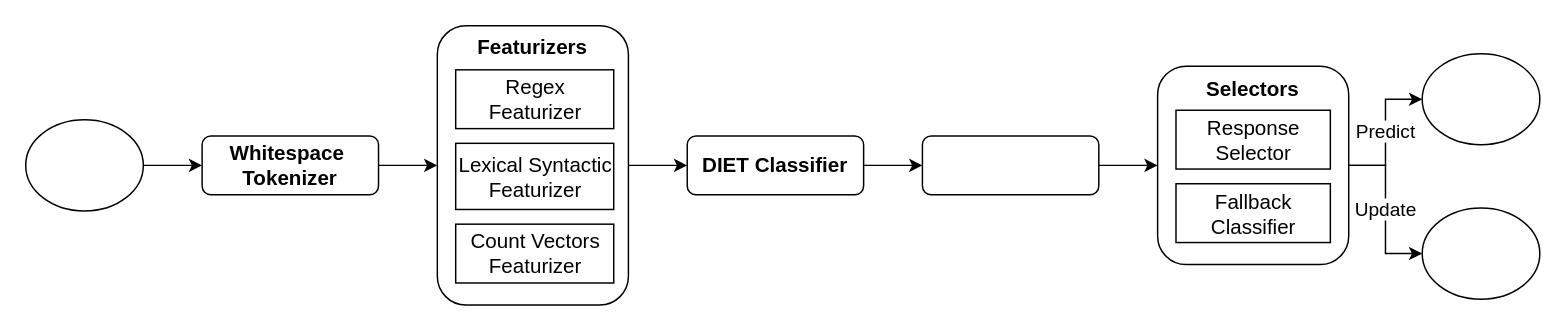
This 1566x331 diagram has some shape labels left out. The centre of each missing label's shape, as x and y in pixels:
Action: (1480,98)
Entity Synonym Mapper: (1010,165)
Natural Language: (83,164)
Tracker: (1480,253)
